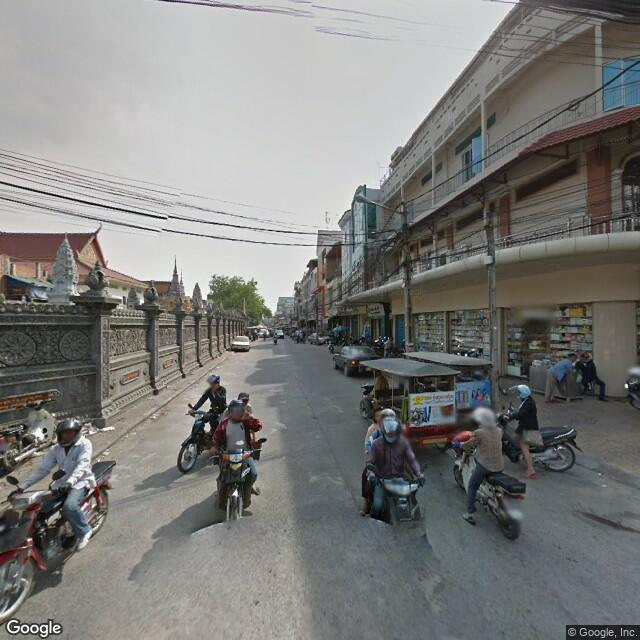litter: (86, 421, 121, 440), (143, 406, 166, 426), (601, 483, 615, 494), (596, 468, 607, 481)
